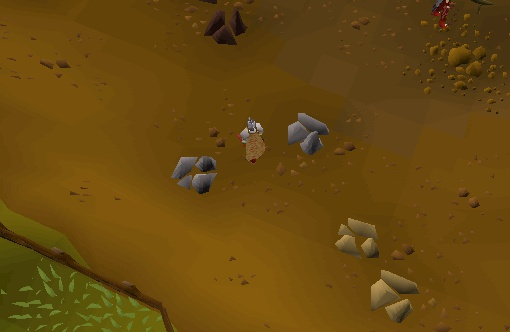clay: (331, 209, 386, 268), (367, 266, 422, 325)
iron: (199, 4, 256, 52)
tin: (279, 106, 344, 162), (164, 142, 229, 198)
